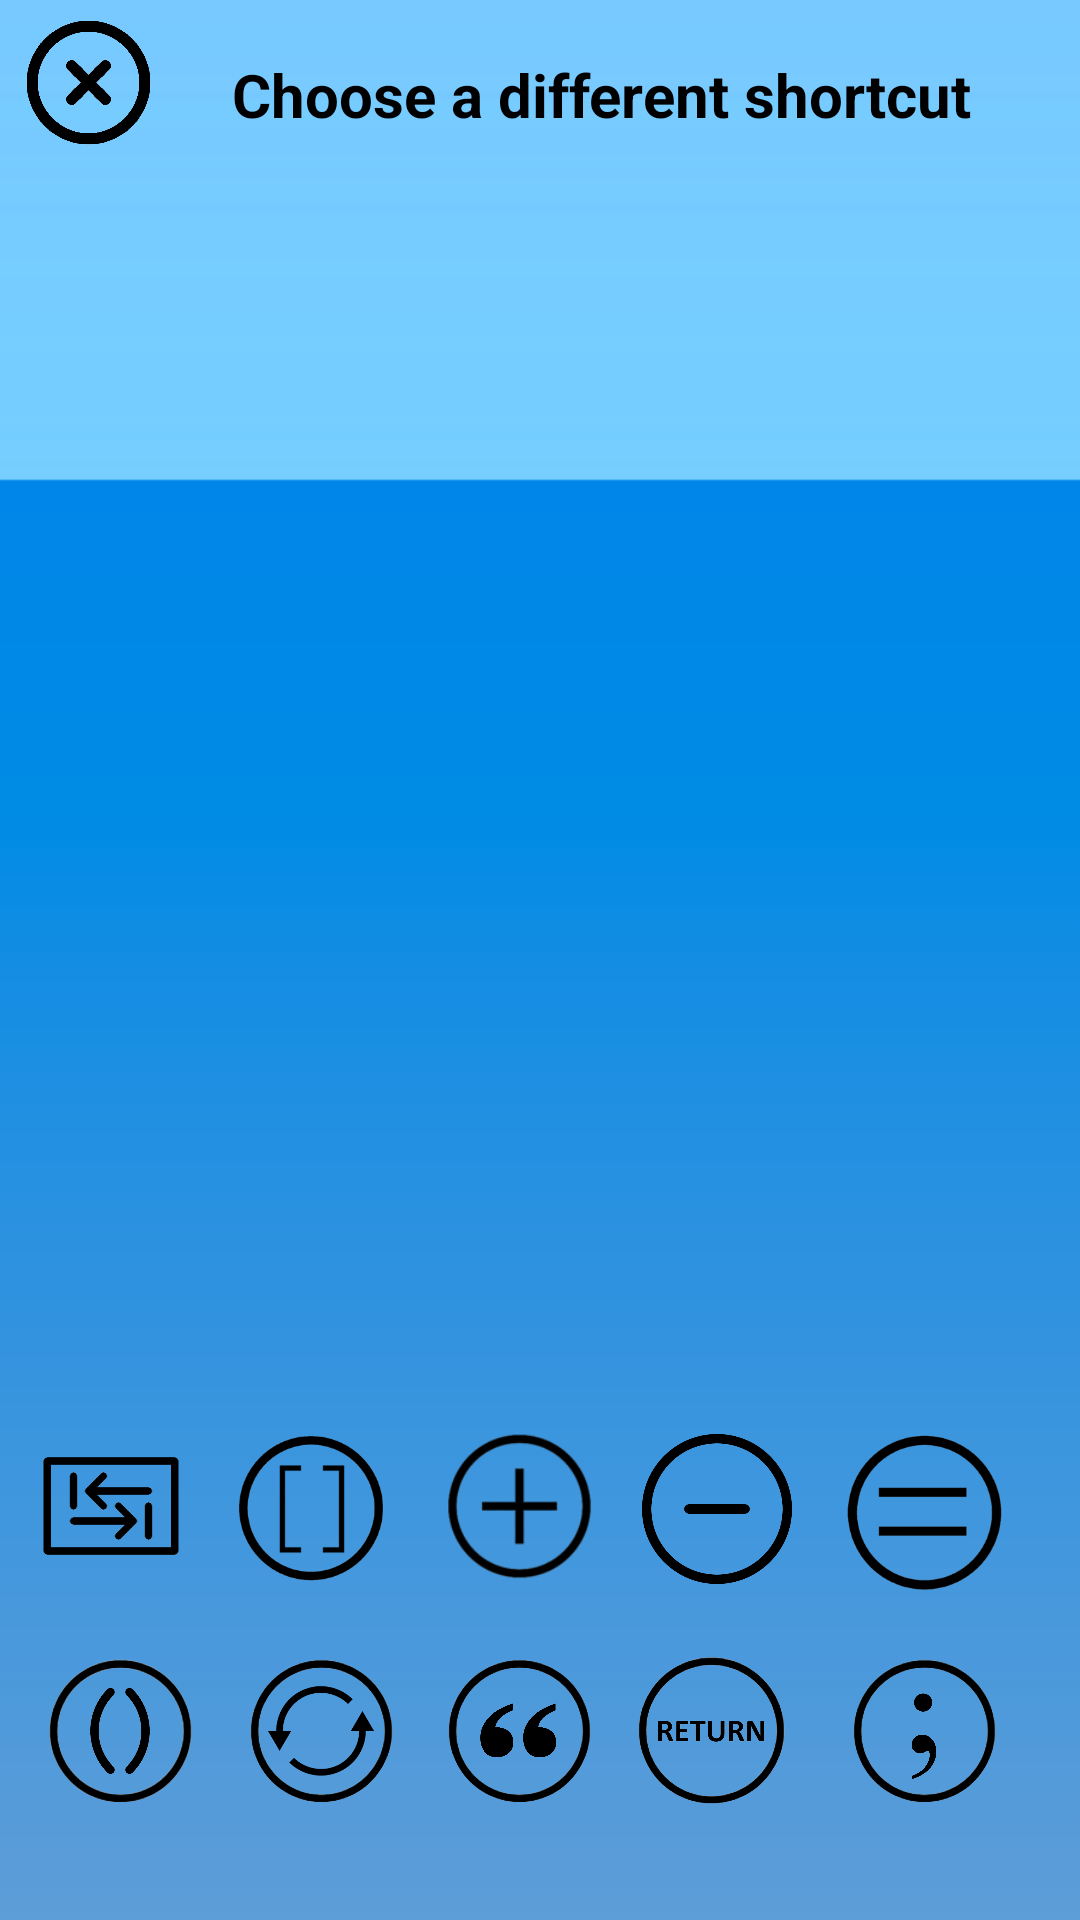

Locate icon controls on the screen. Image size 1080px×1920px, boxes as (x1,y1,x2,y2).
brackets: (239,1436,383,1581)
equal: (847,1435,1002,1590)
loop: (251,1660,393,1802)
minus: (642,1434,792,1584)
para: (49,1660,192,1802)
plus: (448,1434,591,1578)
semi colon: (854,1660,996,1802)
tab: (43,1457,179,1555)
